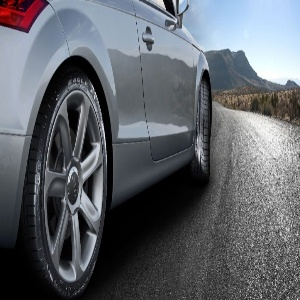train: (18, 64, 110, 297), (189, 73, 214, 182)
